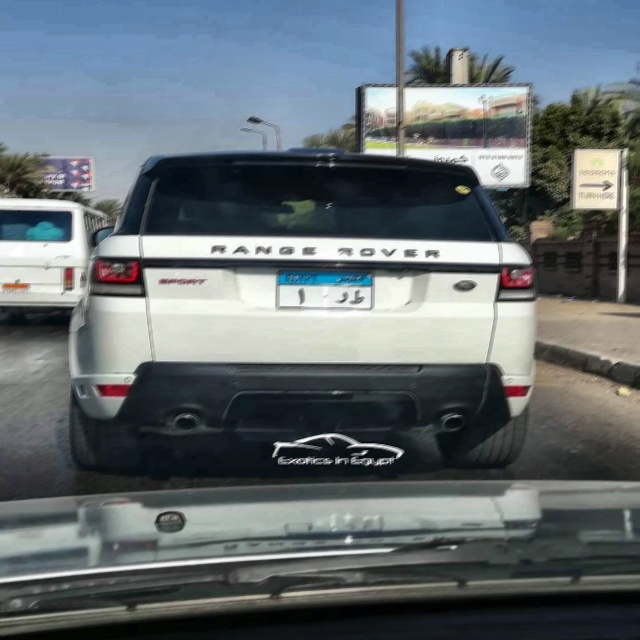License Plate: (274, 267, 377, 311), (3, 282, 31, 294)
